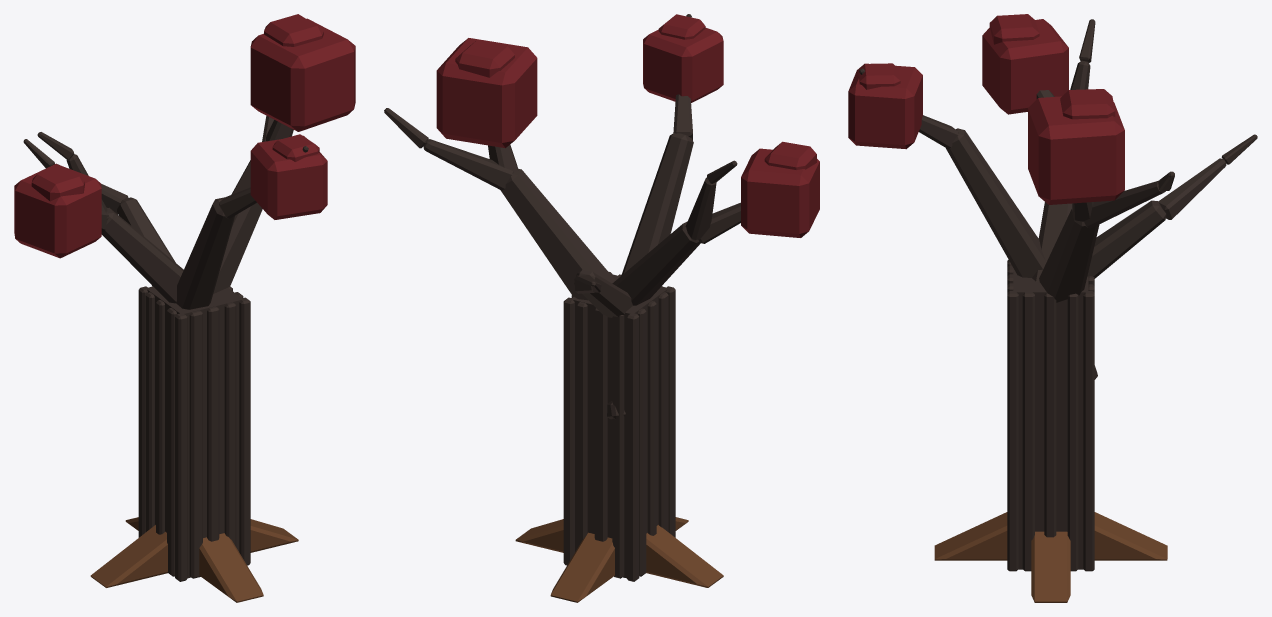
Rendered from DeadOak1.fbx.
3 renders of one model, left to right at view 1: azimuth 30°, elevation 25°; view 2: azimuth 150°, elevation 25°; view 3: azimuth 270°, elevation 25°, orthographic. The views are drawn at different scales.
Parts seen in each view (by area): view 1: Trunk, Leaves, LeafBlock_1, LeafBlock_2, Branch_4, Branch_3, Root_3, Root_2, Branch_1, Branch_2, Root_4; view 2: Trunk, Leaves, Branch_1, LeafBlock_1, LeafBlock_2, Branch_3, Branch_4, Root_1, Root_2, Branch_2, Root_4; view 3: Trunk, Leaves, LeafBlock_1, LeafBlock_2, Branch_4, Branch_1, Branch_2, Root_4, Root_1, Root_3, Branch_3.
Boxes of the visible parts, bbox=[...] form: Trunk: bbox=[138, 286, 250, 581]; Leaves: bbox=[250, 14, 355, 131]; LeafBlock_1: bbox=[14, 164, 101, 258]; LeafBlock_2: bbox=[250, 134, 327, 219]; Branch_4: bbox=[176, 146, 308, 309]; Branch_3: bbox=[37, 132, 183, 303]; Root_3: bbox=[199, 533, 263, 602]; Root_2: bbox=[90, 525, 167, 587]; Branch_1: bbox=[213, 115, 293, 293]; Branch_2: bbox=[23, 139, 175, 286]; Root_4: bbox=[250, 519, 298, 552]; Trunk: bbox=[563, 271, 675, 581]; Leaves: bbox=[436, 38, 537, 148]; Branch_1: bbox=[384, 108, 615, 300]; LeafBlock_1: bbox=[741, 141, 819, 237]; LeafBlock_2: bbox=[643, 14, 723, 102]; Branch_3: bbox=[612, 160, 740, 305]; Branch_4: bbox=[621, 14, 693, 275]; Root_1: bbox=[550, 532, 614, 602]; Root_2: bbox=[646, 525, 723, 587]; Branch_2: bbox=[574, 270, 632, 317]; Root_4: bbox=[515, 519, 563, 552]; Trunk: bbox=[1007, 260, 1094, 571]; Leaves: bbox=[1028, 89, 1124, 204]; LeafBlock_1: bbox=[982, 14, 1068, 114]; LeafBlock_2: bbox=[848, 63, 922, 149]; Branch_4: bbox=[859, 68, 1046, 277]; Branch_1: bbox=[1039, 171, 1174, 302]; Branch_2: bbox=[1087, 134, 1257, 278]; Root_4: bbox=[1031, 531, 1070, 602]; Root_1: bbox=[1094, 512, 1167, 560]; Root_3: bbox=[934, 512, 1007, 560]; Branch_3: bbox=[1032, 19, 1095, 281].
Size of the model in its own units: 14.99 by 19.54 by 14.03.
